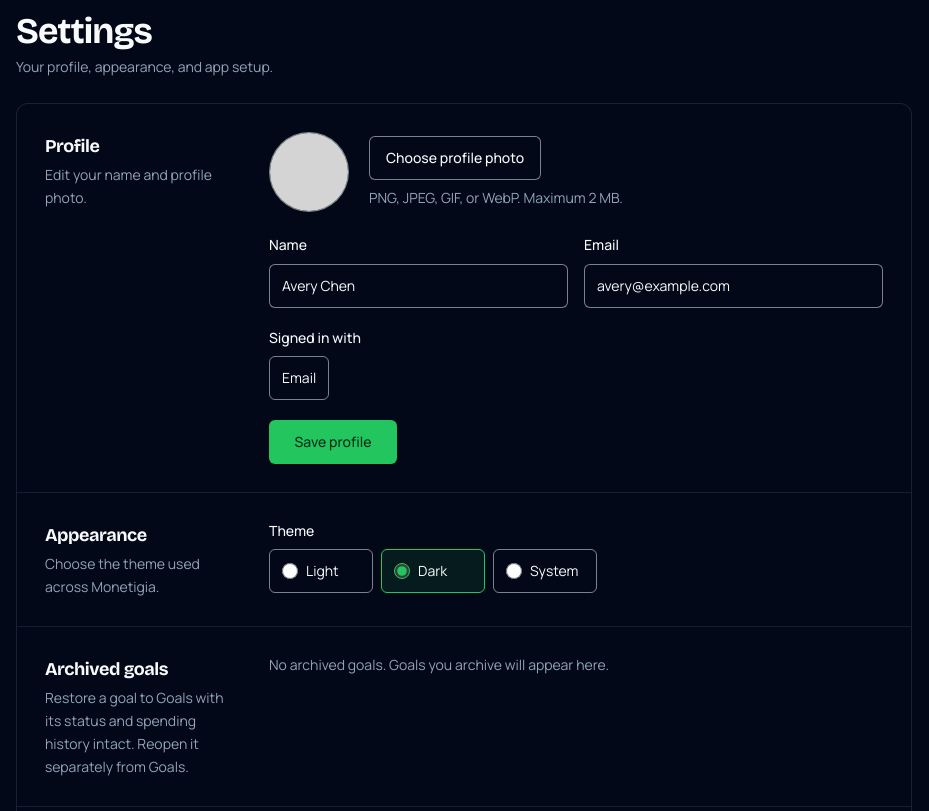
it: settings page › keeps the profile form from claiming a save when the session has expired
expect the field labelled "Name" is shown: met, box 269,264 -> 568,308
Click the button "Save profile": (333,442) 269,420 -> 397,464
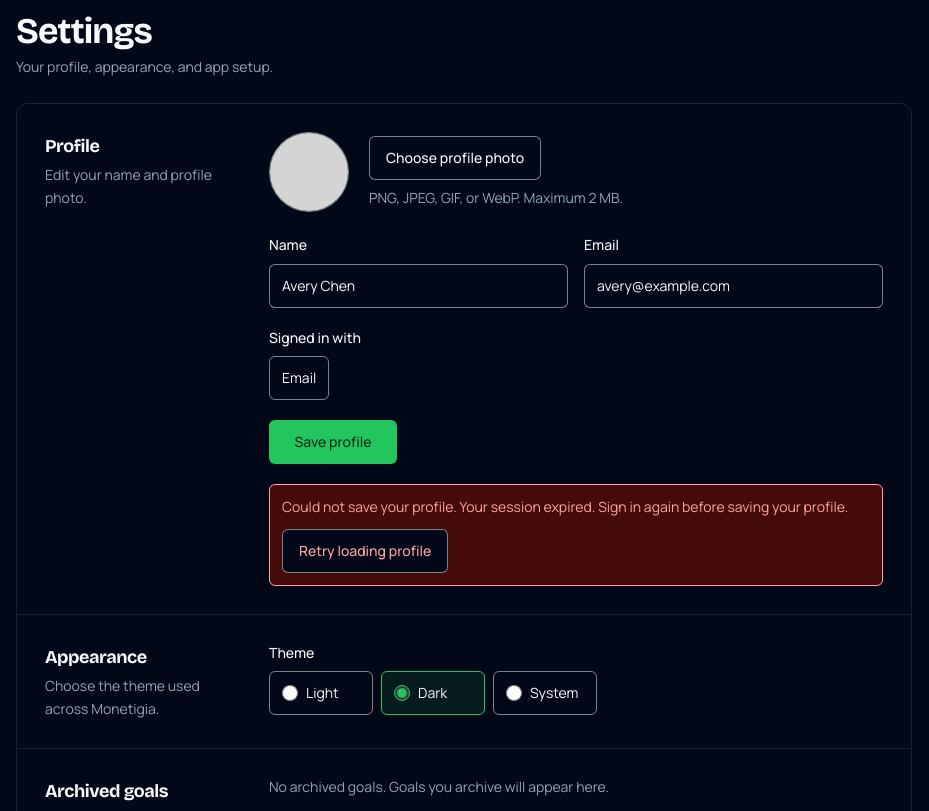
expect the message shows "Sign in again": met, box 282,497 -> 848,516
